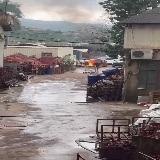fire: (86, 60, 94, 66)
